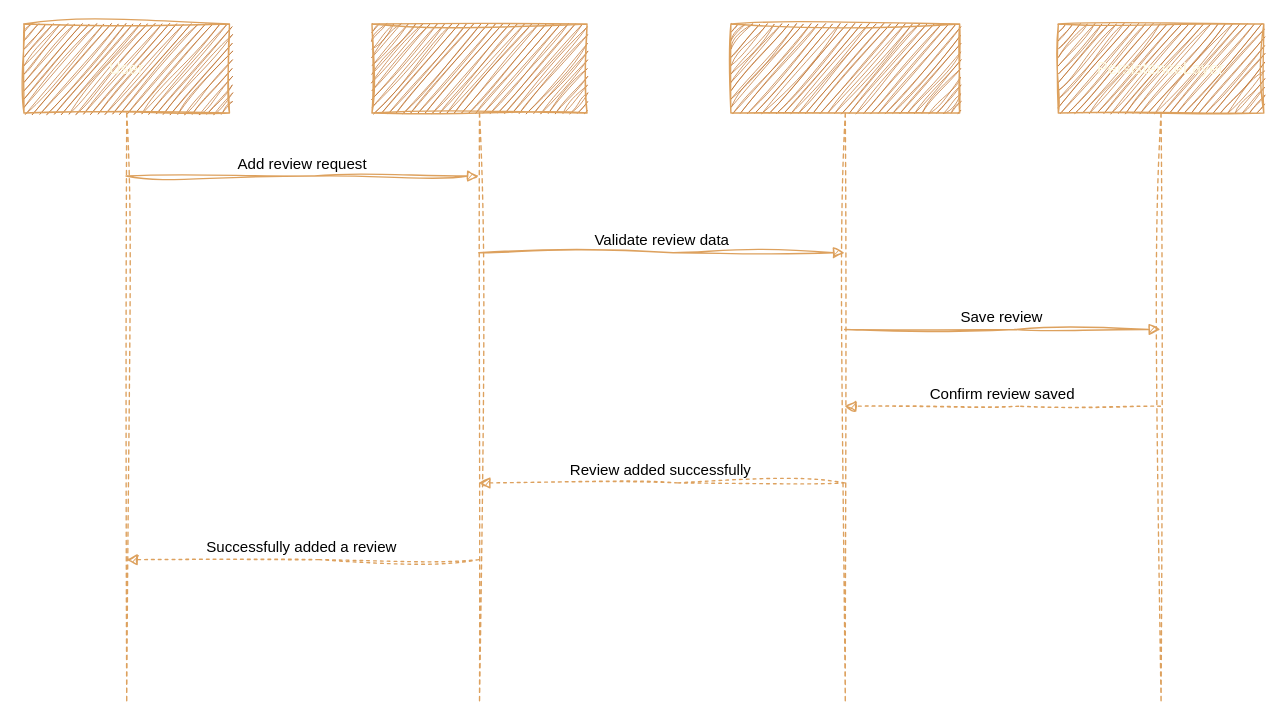
Some shapes in this 1288 by 727 pixel diagram are drawn without their labels. The shapes that lost their labels are listed below. From the top down, each one's box as (x1, y1, x2, y2) in pixels, then its label:
(371, 23, 587, 703): PresentationLayer
(730, 23, 960, 703): BusinessLogicLayer
